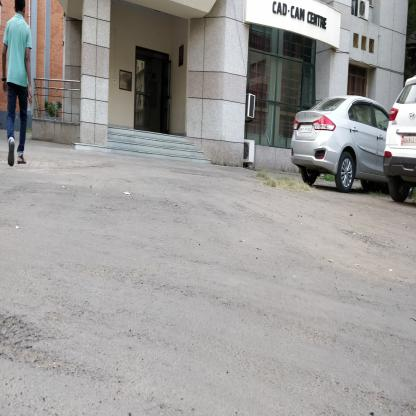stairs: (112, 132, 186, 163)
